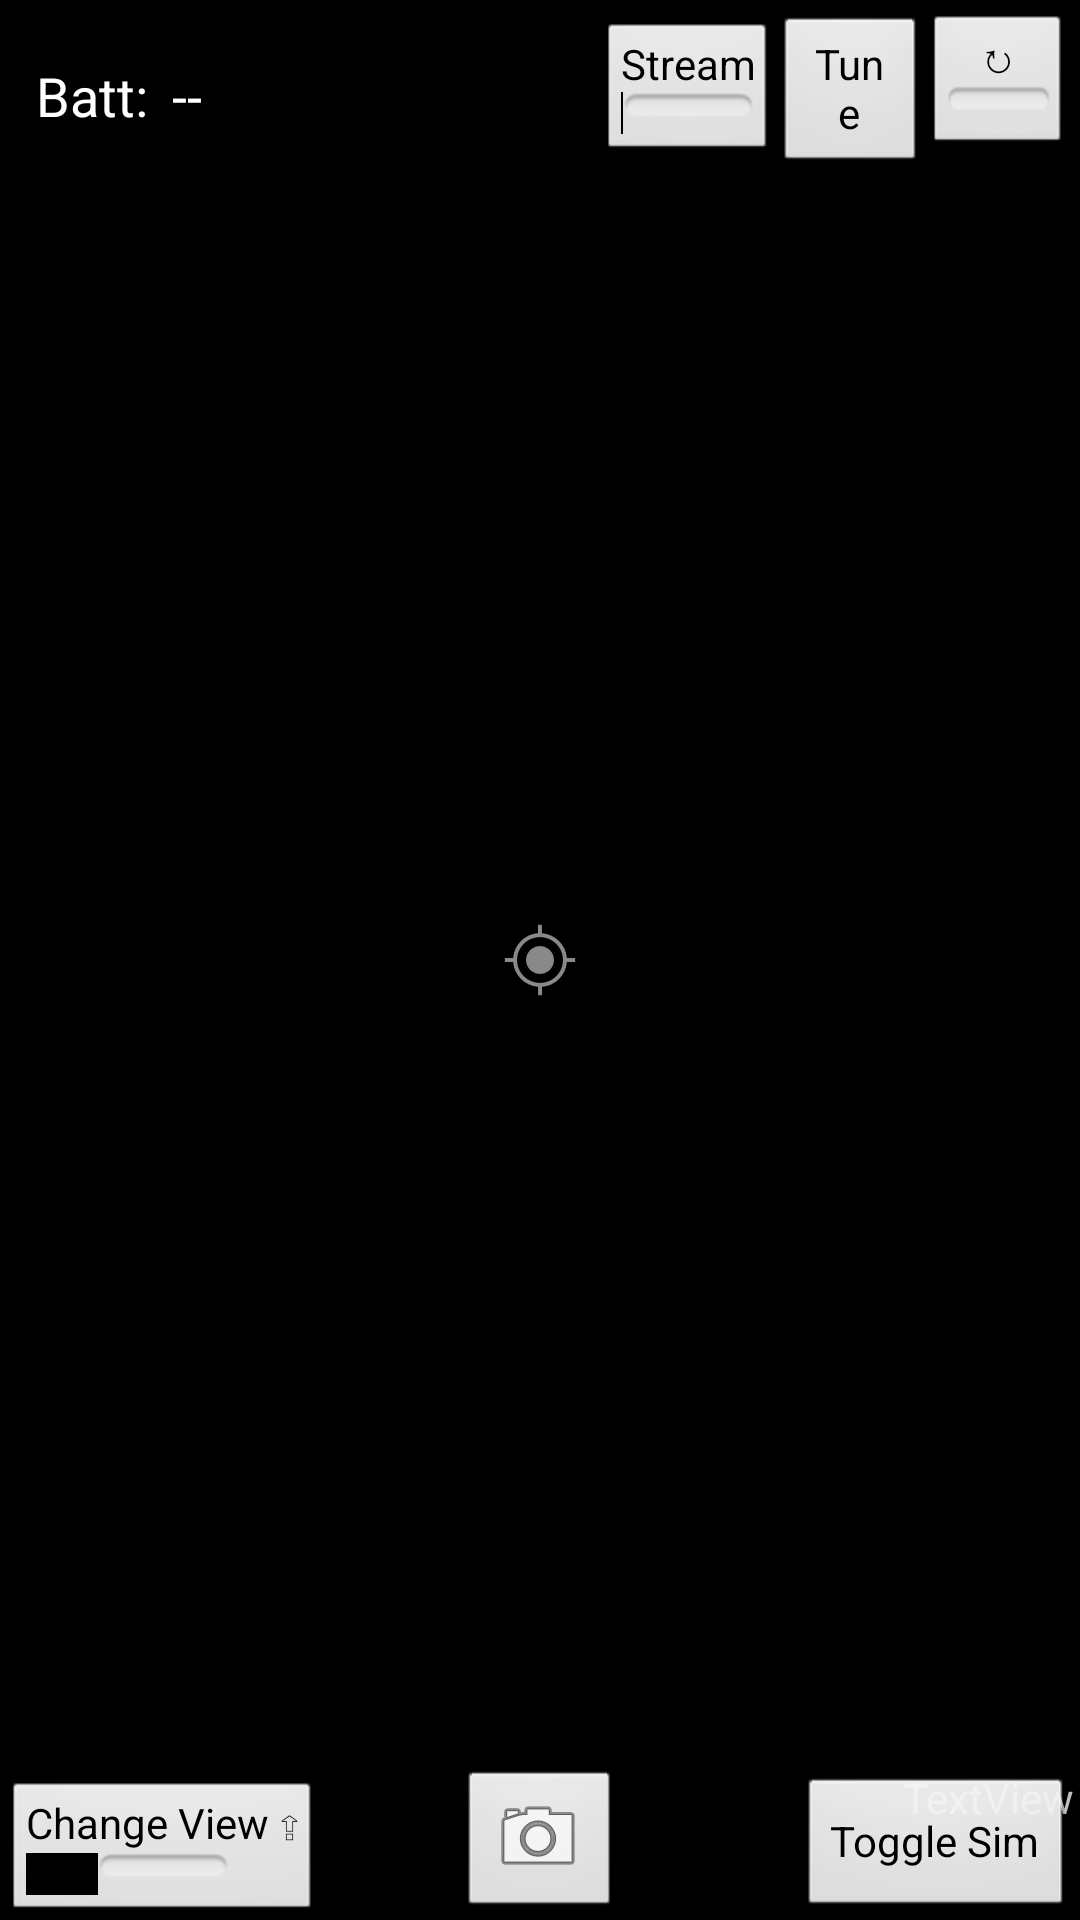

Screen size 1080px×1920px. Icon name, then its center in pixels as [x,y]:
camera: [539,1838]
mylocation: [540,960]
